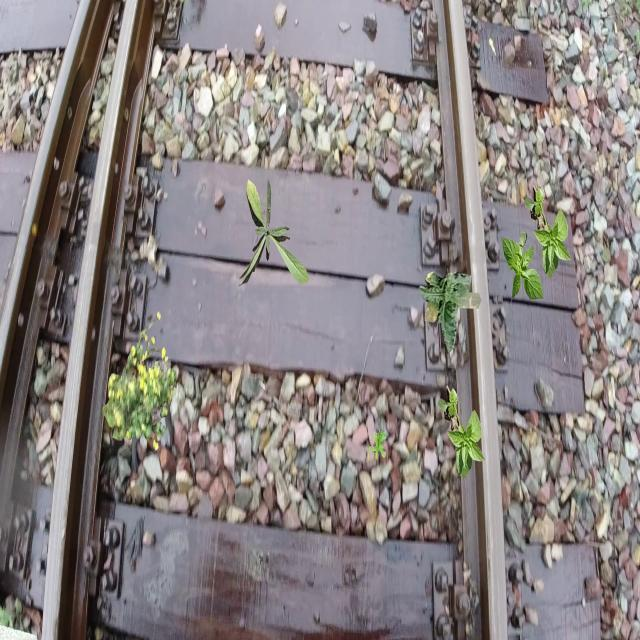Plant: (102, 311, 177, 451), (237, 179, 308, 287), (418, 272, 482, 355), (438, 385, 486, 480), (524, 184, 572, 279), (502, 231, 544, 302), (369, 429, 386, 461)
